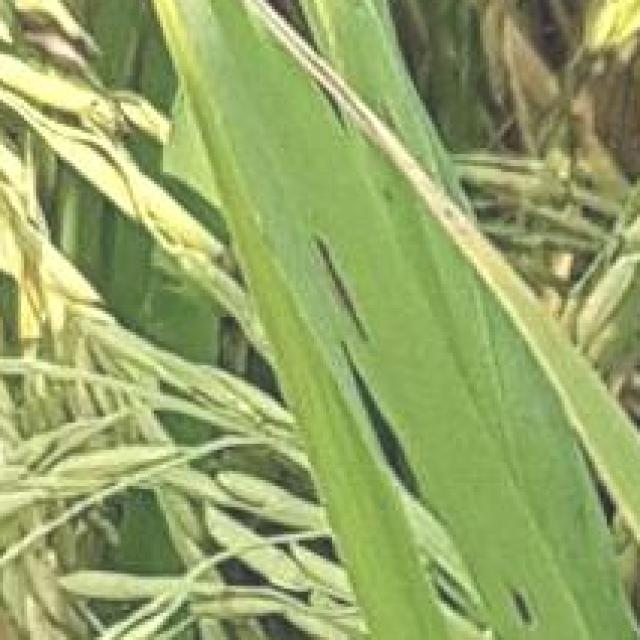Bacterial_Leaf_Blight: (202, 1, 516, 262)
